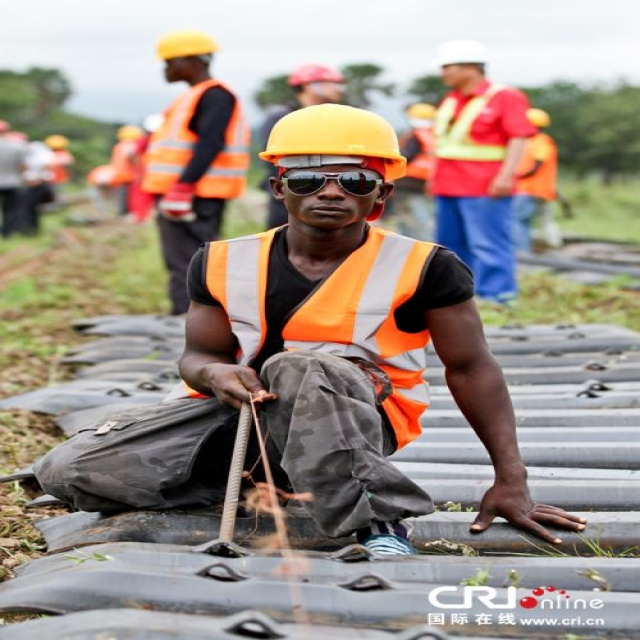Helmet: (258, 95, 412, 247), (148, 23, 223, 92), (430, 34, 494, 90)
Reflective vest: (200, 215, 436, 468), (141, 79, 258, 198), (430, 82, 527, 195)
